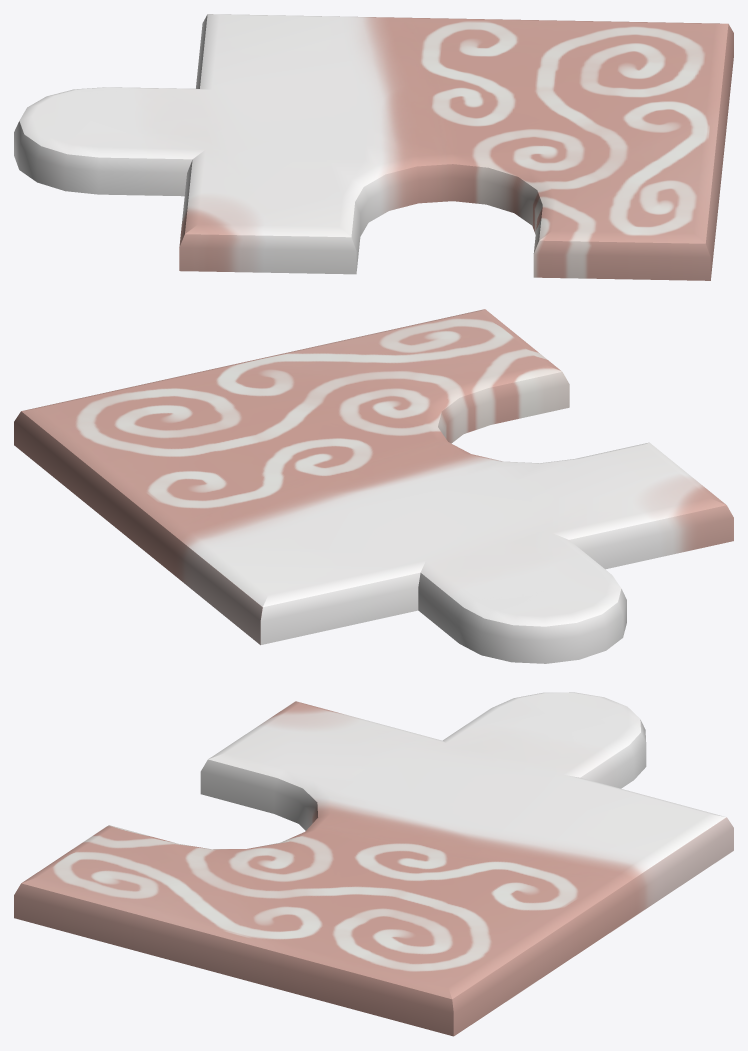
The model's file is PuzzlePiece9.fbx.
The picture shows the model from 3 angles, top to bottom: view 1: azimuth 30°, elevation 25°; view 2: azimuth 150°, elevation 25°; view 3: azimuth 270°, elevation 25°; orthographic projection. The views are drawn at different scales.
Parts seen in each view (by area): view 1: polySurface9; view 2: polySurface9; view 3: polySurface9.
Part boxes in pixels (x1,y1,x2,y2): polySurface9: (14, 14, 733, 280); polySurface9: (14, 309, 733, 663); polySurface9: (14, 692, 733, 1036).
Size of the model in its own units: 1.42 by 0.0821 by 1.38.
Materials: 2 (1 with a texture image).
